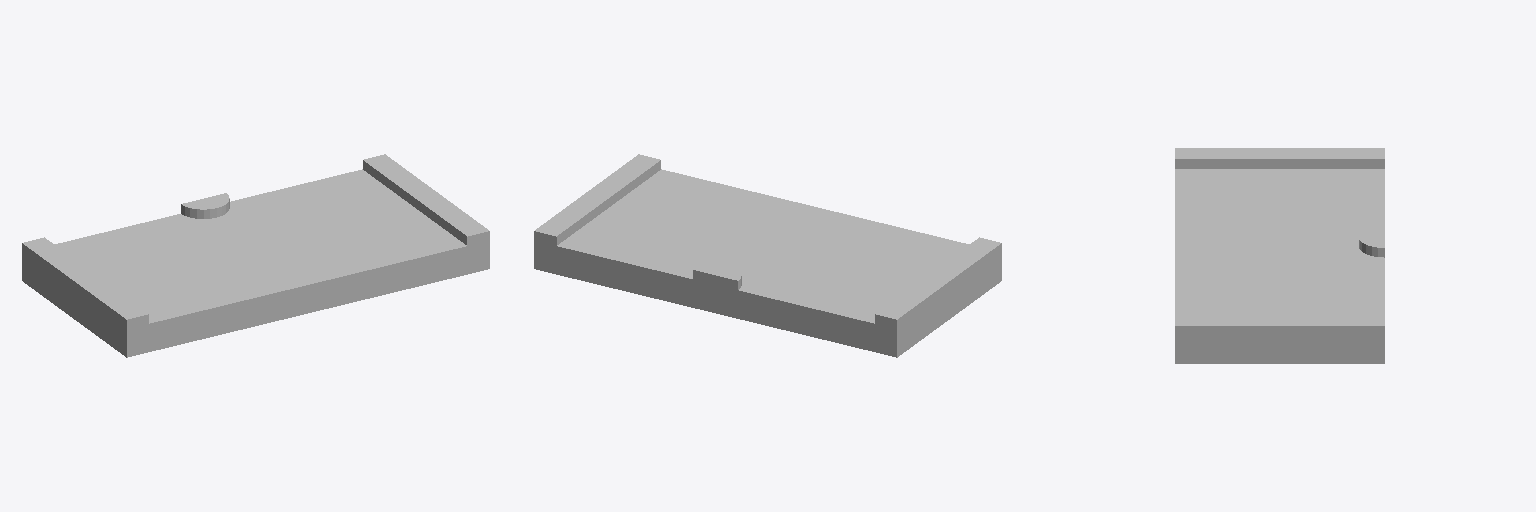
File: tile_wideSplit.obj
3 views of the same model, side by side, from view 1: azimuth 30°, elevation 25°; view 2: azimuth 150°, elevation 25°; view 3: azimuth 270°, elevation 25° (orthographic).
Parts seen in each view (by area): view 1: tile_wideSplit; view 2: tile_wideSplit; view 3: tile_wideSplit.
Part boxes in pixels (x1,y1,x2,y2): tile_wideSplit: (22, 154, 489, 357); tile_wideSplit: (534, 154, 1001, 357); tile_wideSplit: (1175, 148, 1384, 363).
Bounding box in the file's own units: 2 × 0.2 × 1.